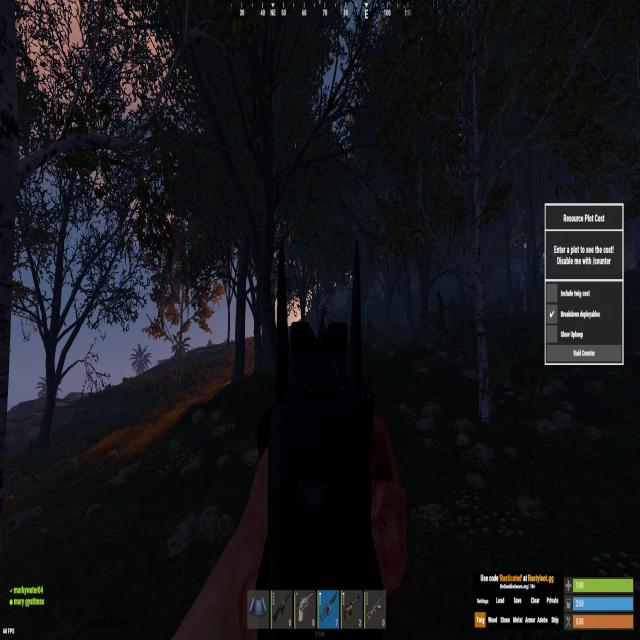Player: (320, 304, 327, 336)
